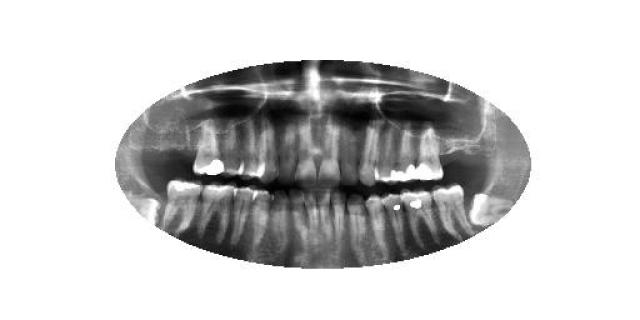Fillings: (414, 125, 445, 181), (192, 119, 222, 175), (374, 122, 396, 186), (395, 122, 417, 184)
Restorations: (468, 192, 514, 228), (126, 191, 164, 229)
